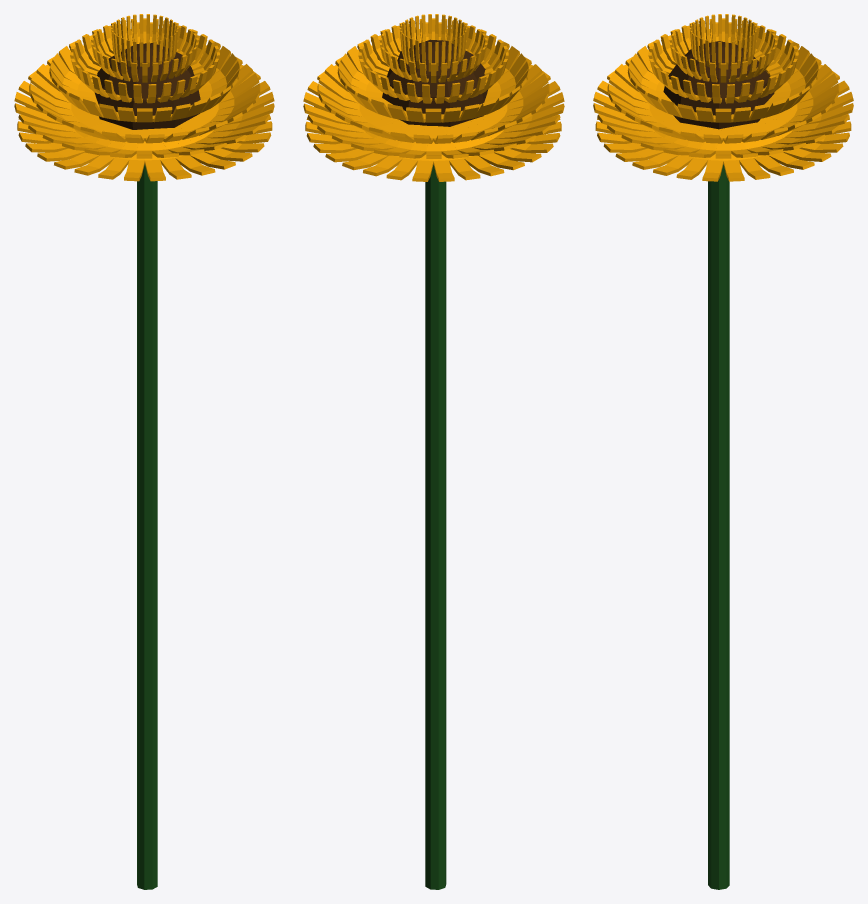
Rendered from dandelion.obj.
The picture shows the model from 3 angles, left to right: view 1: azimuth 30°, elevation 25°; view 2: azimuth 150°, elevation 25°; view 3: azimuth 270°, elevation 25°; orthographic projection.
Visible parts, largest first — view 1: dandelion; view 2: dandelion; view 3: dandelion.
Boxes of the visible parts, x1,y1,x2,y2 form: dandelion: (14, 14, 274, 889); dandelion: (303, 14, 564, 889); dandelion: (593, 14, 853, 889).
Bounding box in the file's own units: 0.0332 × 0.1204 × 0.0332.
